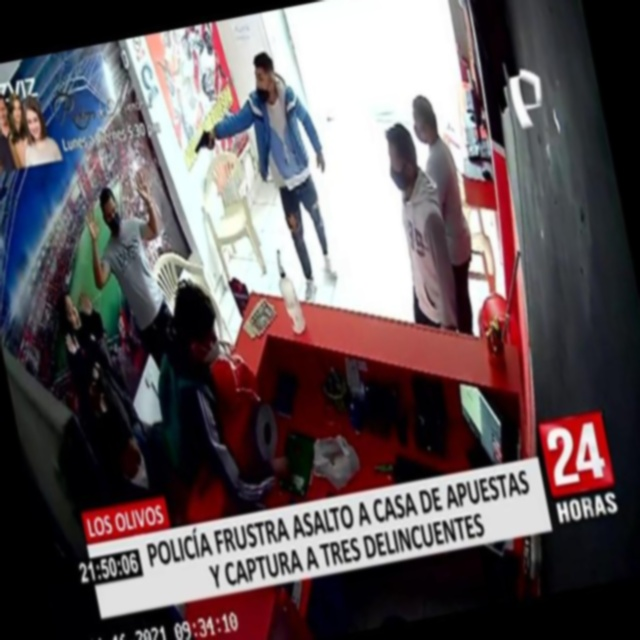gun: (176, 113, 224, 169)
